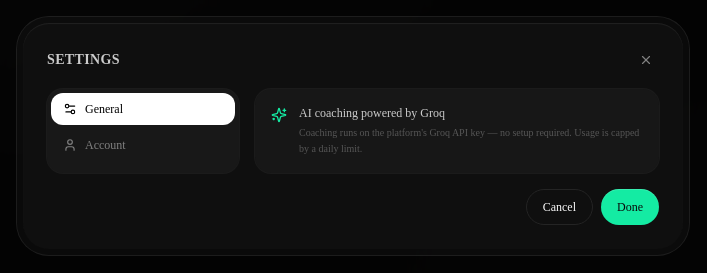
SettingsModal › renders Privacy Policy button in the account section
The image size is (707, 273).
Click the tab with test id "settings-tab-account": {"x": 143, "y": 145} [51,129,235,161]
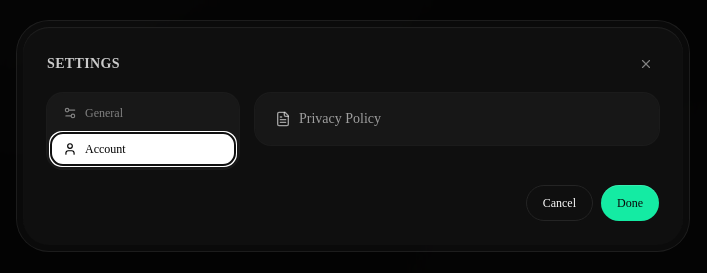
Expected: the button "Privacy Policy" is shown, [263,101,651,137]
